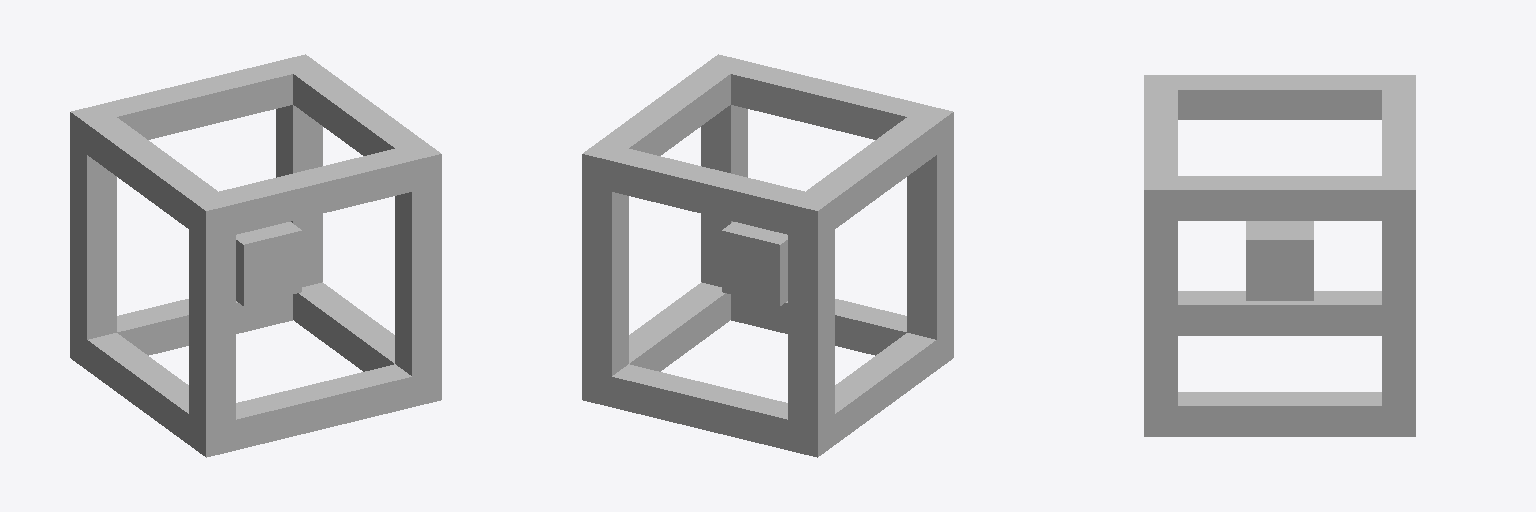
File: player.obj
The picture shows the model from 3 angles: view 1: azimuth 30°, elevation 25°; view 2: azimuth 150°, elevation 25°; view 3: azimuth 270°, elevation 25°; orthographic projection.
Parts seen in each view (by area): view 1: object 1; view 2: object 1; view 3: object 1.
Boxes of the visible parts, <box> form: object 1: <box>70,54,441,457</box>; object 1: <box>582,54,953,457</box>; object 1: <box>1144,75,1415,436</box>.
Bounding box in the file's own units: 0.8 × 0.8 × 0.8.